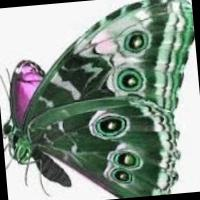butterfly: (2, 0, 195, 199)
